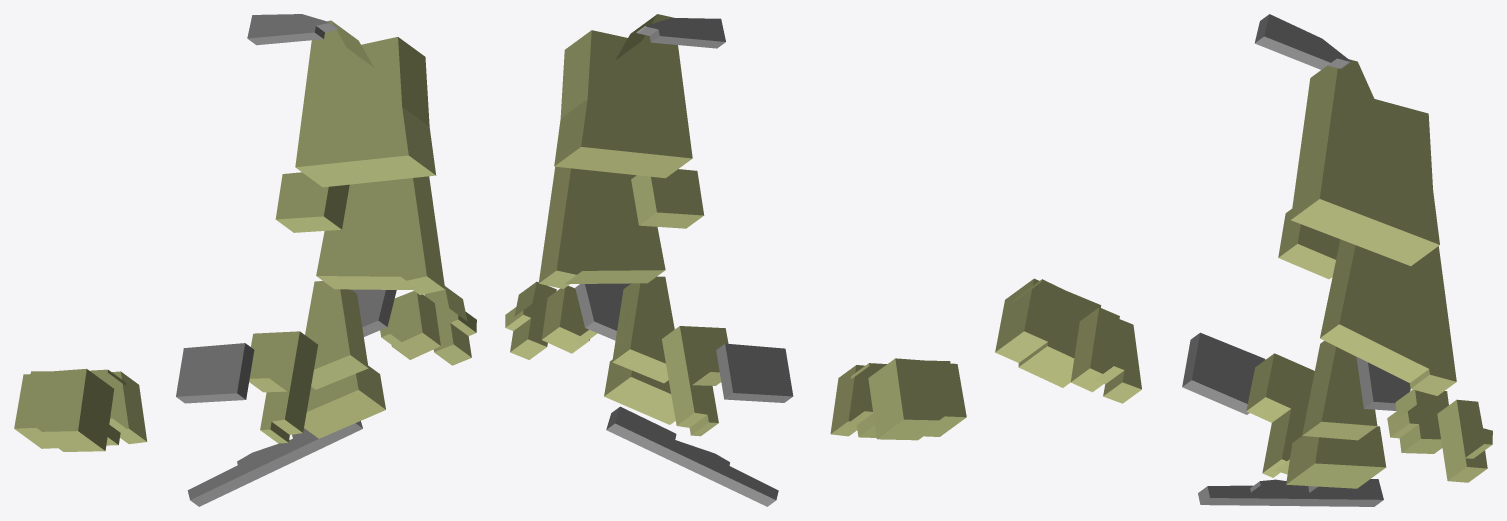
3 views of the same model, side by side, from view 1: azimuth 30°, elevation 25°; view 2: azimuth 150°, elevation 25°; view 3: azimuth 330°, elevation 25° (orthographic). The views are drawn at different scales.
Parts seen in each view (by area): view 1: 0_1_0_2_0_0_0_1; view 2: 0_1_0_2_0_0_0_1; view 3: 0_1_0_2_0_0_0_1.
Part boxes in pixels (x1,y1,x2,y2): 0_1_0_2_0_0_0_1: (14,14,476,506); 0_1_0_2_0_0_0_1: (505,14,966,506); 0_1_0_2_0_0_0_1: (995,14,1492,506).
Bounding box in the file's own units: 83.84 × 85.51 × 9.5.
